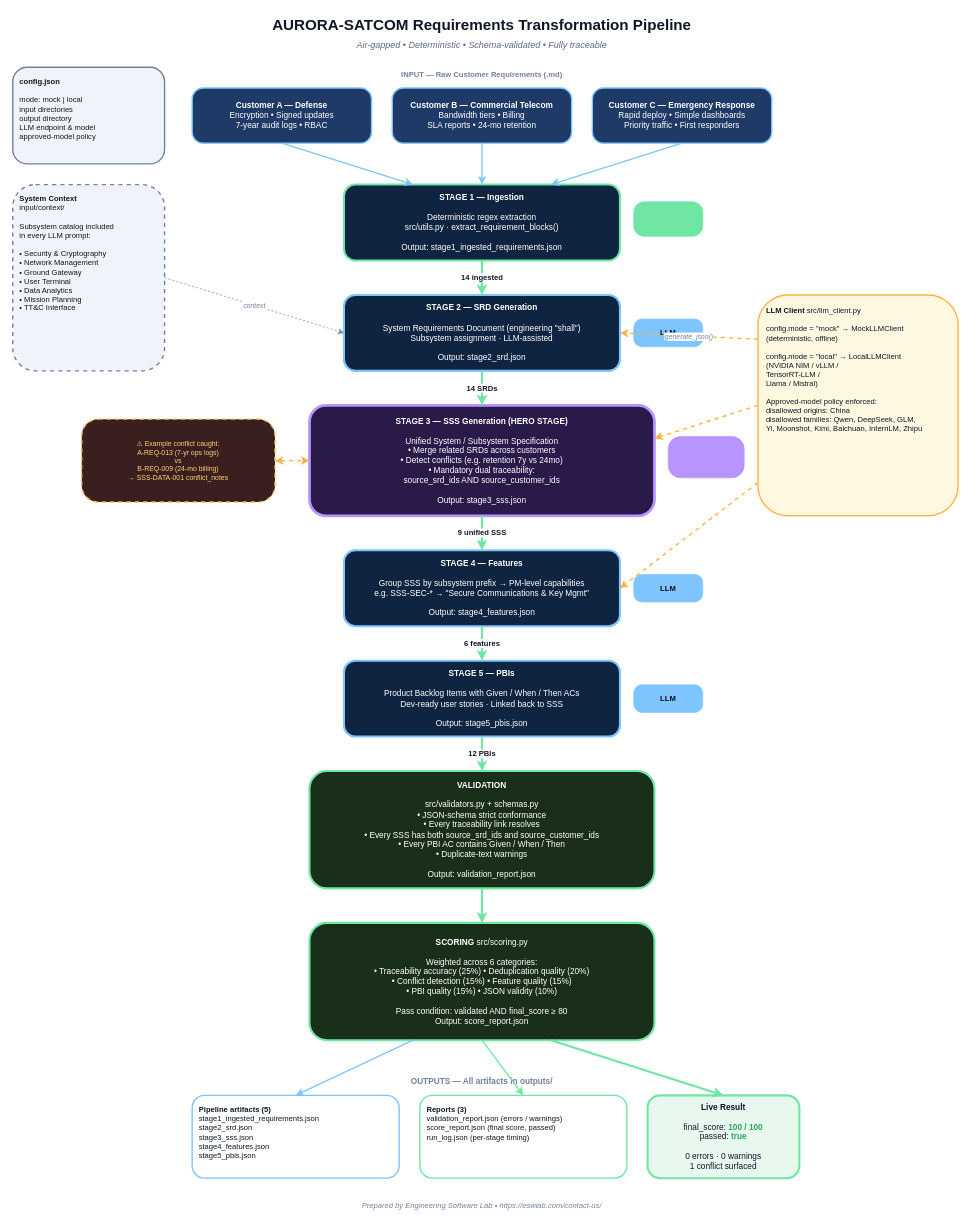
The diagram is 970 pixels wide and 1224 high, and some of its shapes have lost their labels. Each missing label, with the centre of its shape:
LLM + CONFLICT DETECTION: point 706,457
NO LLM DETERMINISTIC: point 668,218
